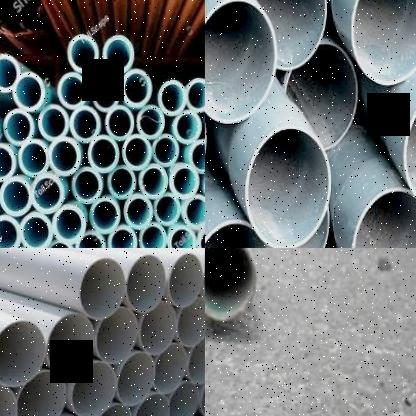pipe: (245, 125, 331, 248), (205, 0, 277, 124), (285, 43, 357, 151), (350, 0, 416, 86), (255, 0, 327, 71), (351, 186, 416, 248), (205, 248, 255, 322), (0, 320, 45, 387), (45, 314, 94, 375), (80, 257, 126, 320), (72, 360, 116, 416), (126, 254, 166, 313), (96, 308, 138, 364), (17, 370, 66, 416), (116, 351, 156, 406), (140, 301, 176, 356), (169, 253, 203, 307), (152, 344, 188, 394), (402, 87, 416, 212), (176, 297, 205, 347), (30, 174, 65, 214), (52, 204, 86, 244), (12, 72, 45, 112), (18, 211, 53, 248), (121, 68, 153, 108), (0, 176, 32, 216), (48, 138, 81, 176), (67, 35, 99, 74), (103, 36, 135, 74), (18, 140, 50, 178), (72, 167, 104, 204), (70, 106, 101, 143), (90, 196, 121, 233), (39, 104, 69, 142), (88, 135, 118, 173), (3, 109, 33, 146), (122, 134, 152, 170), (58, 72, 87, 109), (169, 381, 199, 416), (158, 80, 187, 116), (170, 164, 199, 200), (173, 110, 202, 145), (139, 164, 168, 199), (124, 194, 153, 229), (107, 166, 136, 200), (106, 106, 134, 141), (153, 192, 181, 226), (137, 105, 164, 139), (186, 336, 205, 384), (92, 79, 119, 112), (133, 392, 169, 416), (153, 134, 178, 168), (182, 194, 205, 230), (138, 222, 167, 248), (0, 53, 19, 92), (167, 224, 197, 248), (185, 78, 205, 113), (108, 224, 137, 248), (0, 216, 20, 248), (187, 140, 205, 174), (0, 143, 15, 181), (75, 229, 105, 248), (91, 403, 132, 416), (44, 240, 76, 248)
